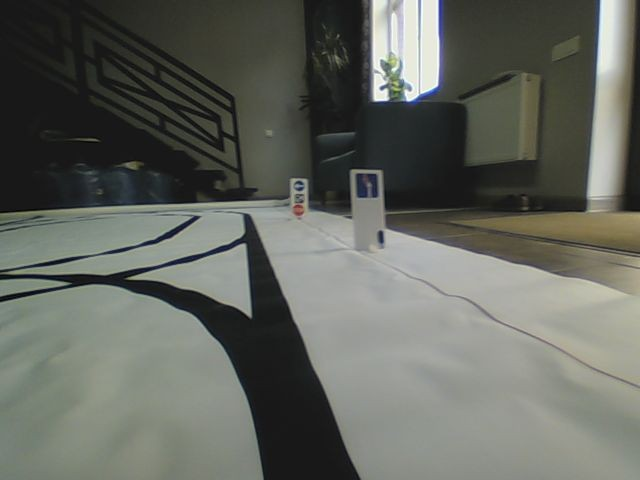priority_movement: (355, 173, 379, 199)
